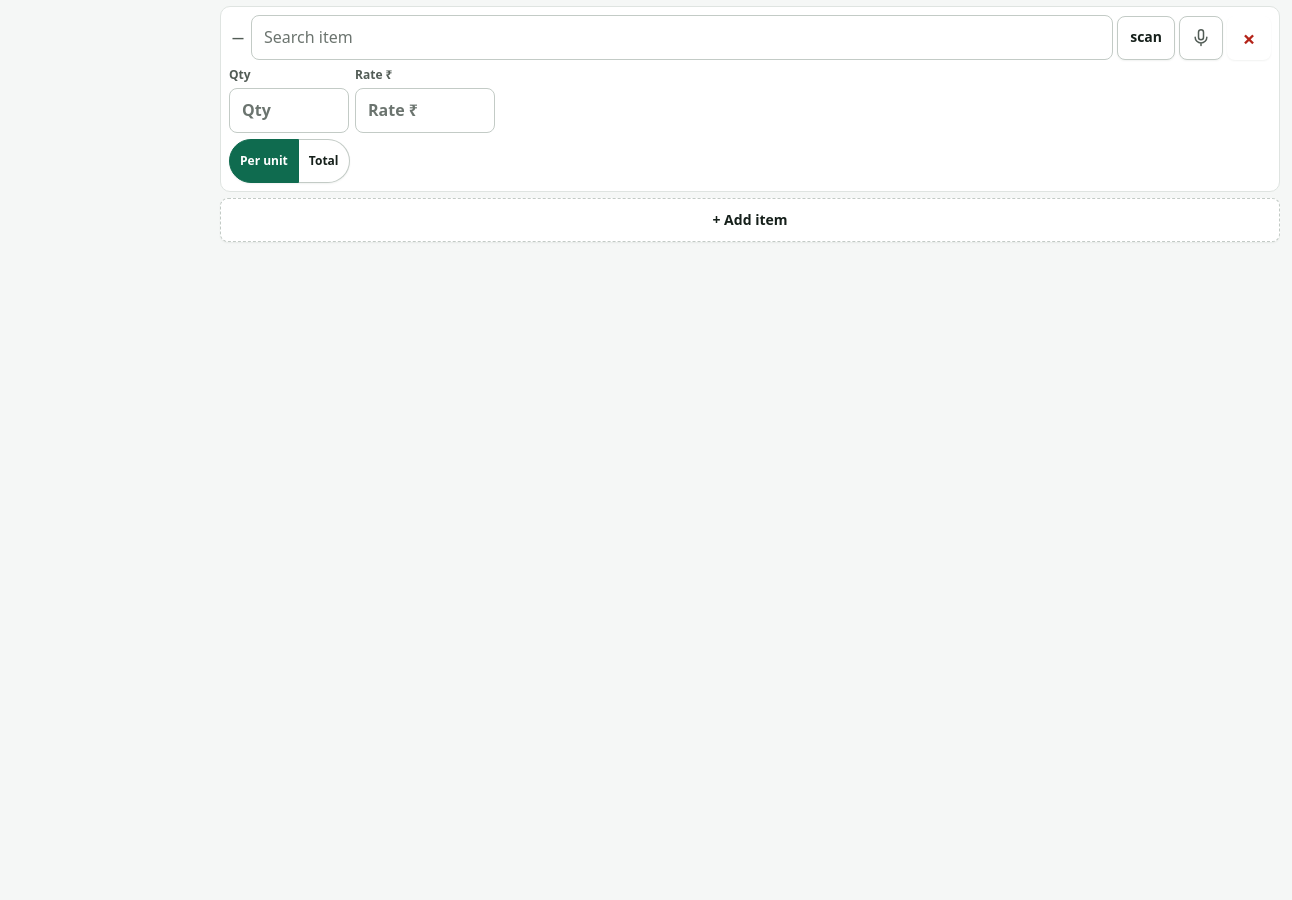
Test case: offline, the card says the item was not created and keeps the form; nothing is sent
The image size is (1292, 900).
In the field with placeholder "Search item": (682, 38) [251, 15, 1113, 60], type "Jaggery"
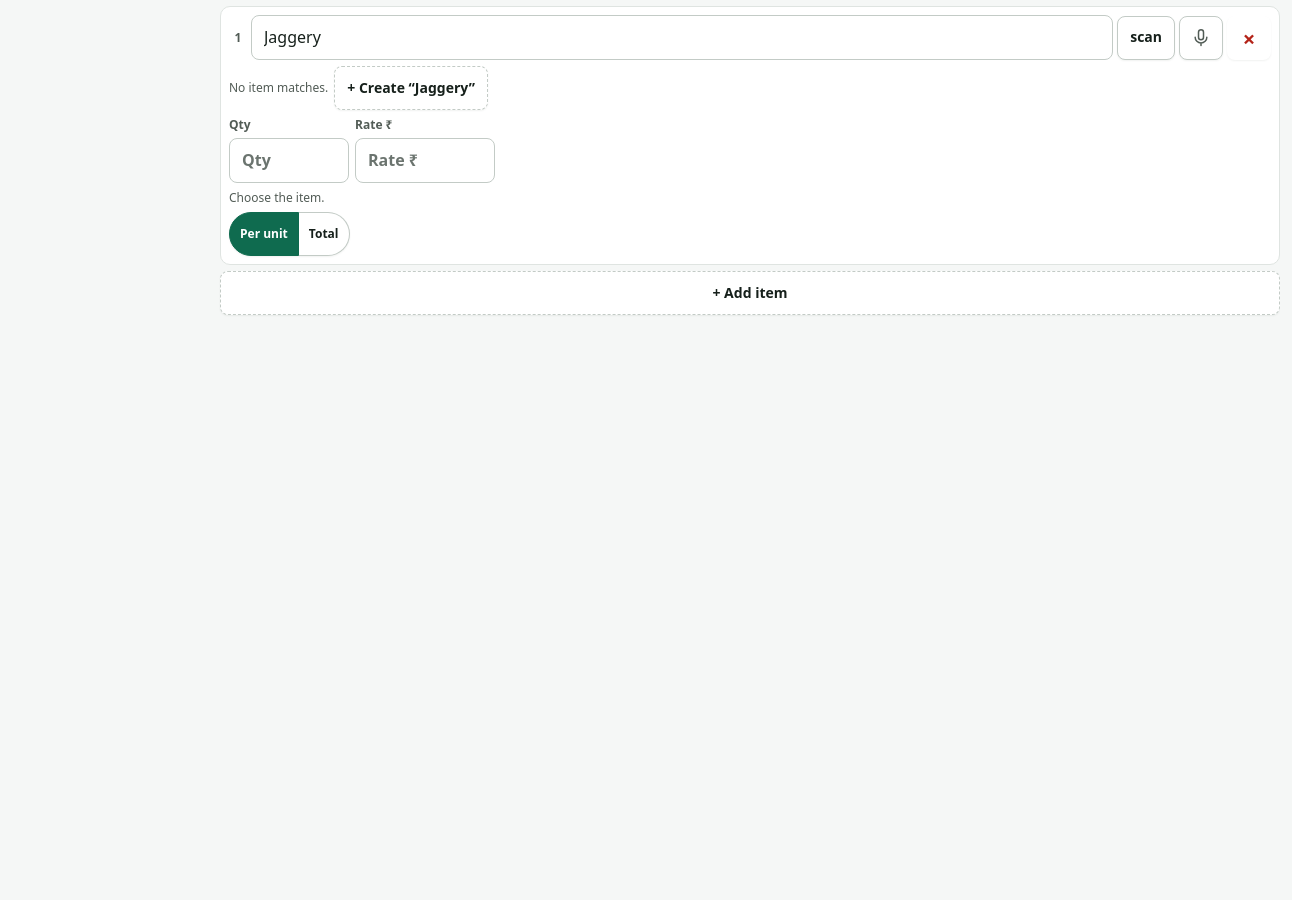
Click the button "+ Create “Jaggery”": (411, 88) [334, 66, 488, 110]
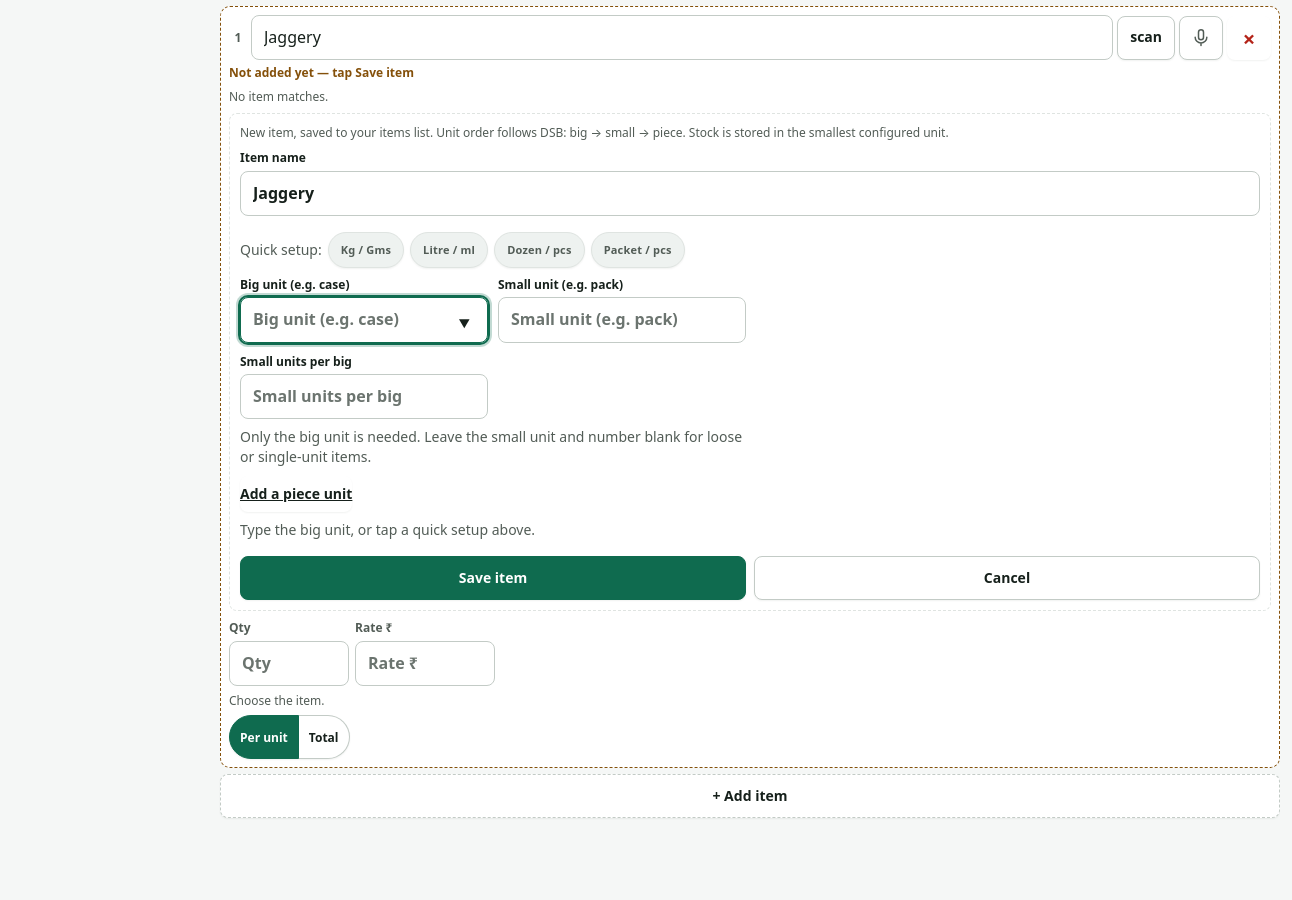
In the field with placeholder "Big unit (e.g. case)": (364, 320) [240, 297, 488, 342], type "kg"
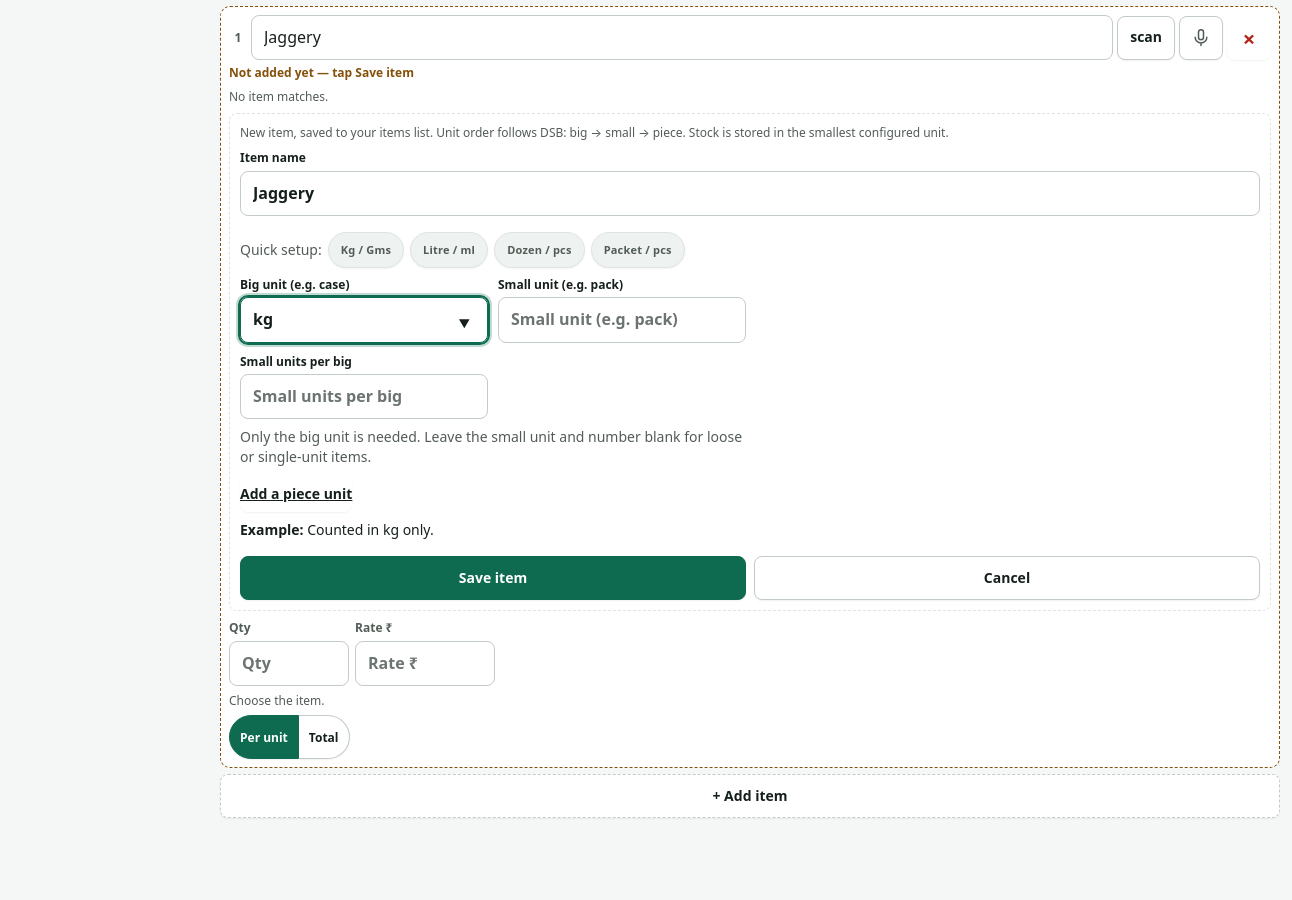
Click the button "Save item": (493, 578) [240, 556, 746, 600]
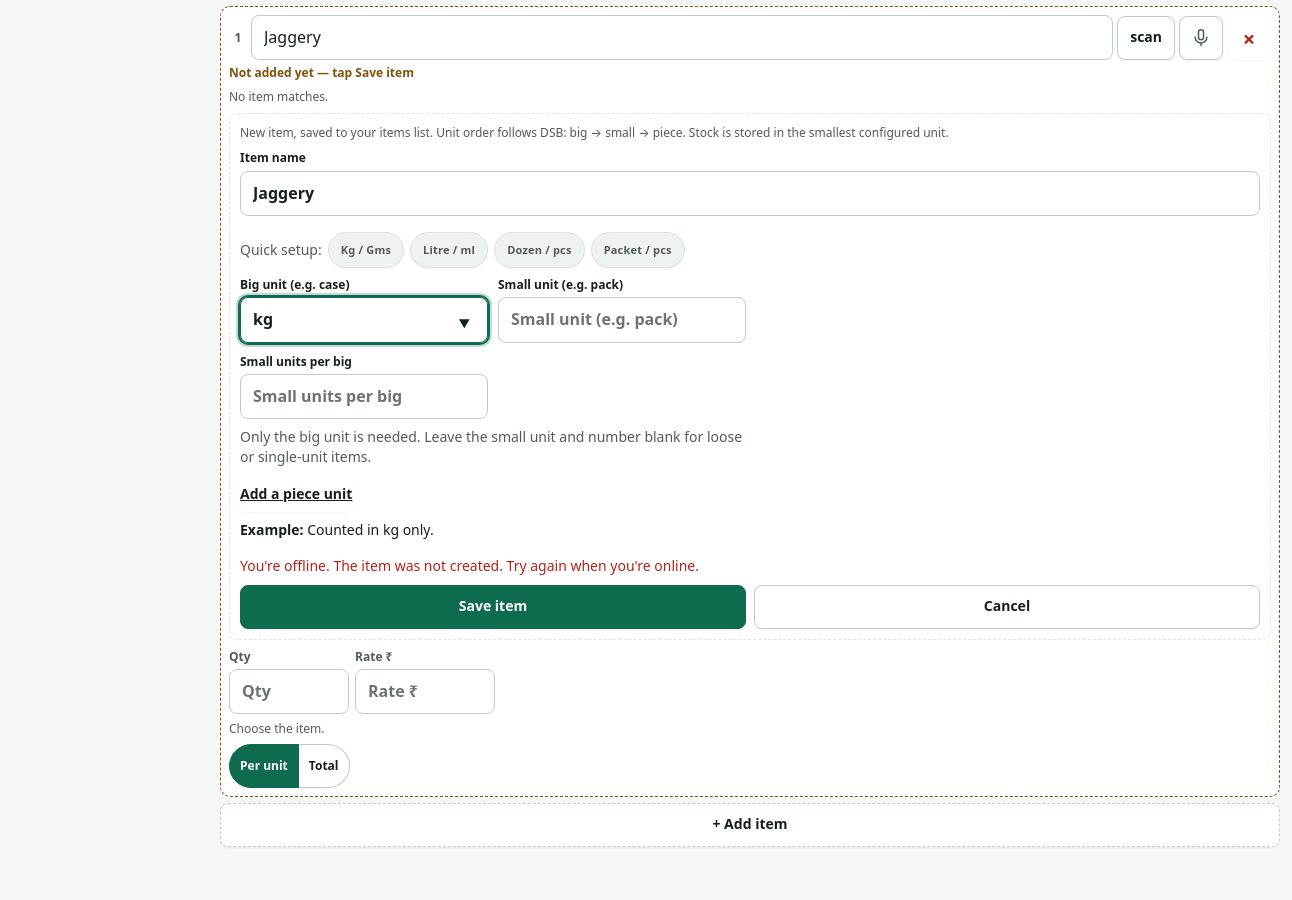
Expected: the message "You're offline. The item was not created. Try again when you're online." is shown, [240, 556, 699, 575]
